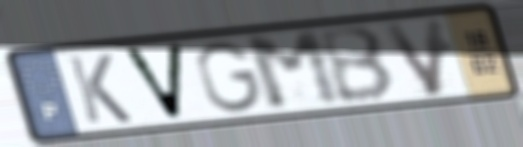B: (314, 24, 400, 106)
G: (192, 39, 266, 115)
K: (64, 52, 136, 126)
M: (241, 28, 348, 114)
V: (378, 14, 446, 100), (118, 41, 188, 123)
